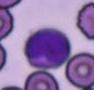M: (24, 28, 71, 69)
